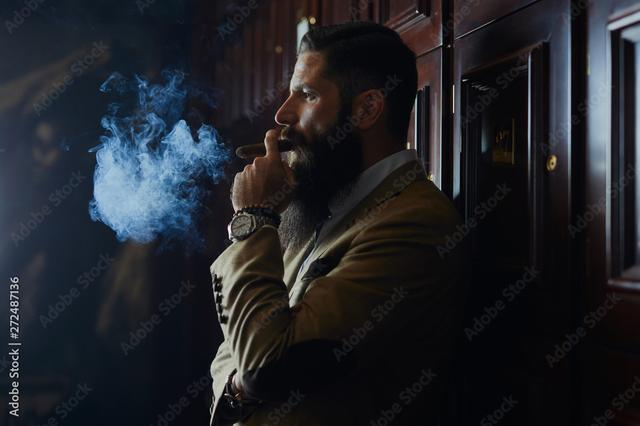Cigar: (233, 138, 294, 160)
